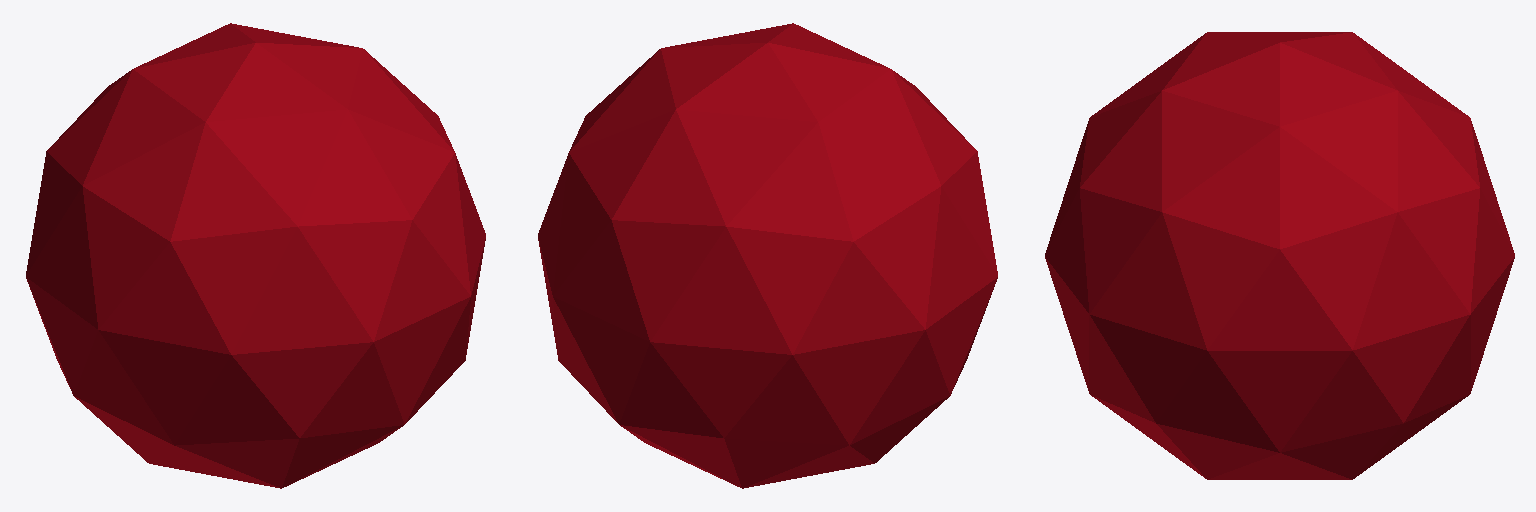
The model's file is ball.obj.
3 renders of one model, left to right at view 1: azimuth 30°, elevation 25°; view 2: azimuth 150°, elevation 25°; view 3: azimuth 270°, elevation 25°, orthographic.
Size of the model in its own units: 1.9 by 2 by 2.